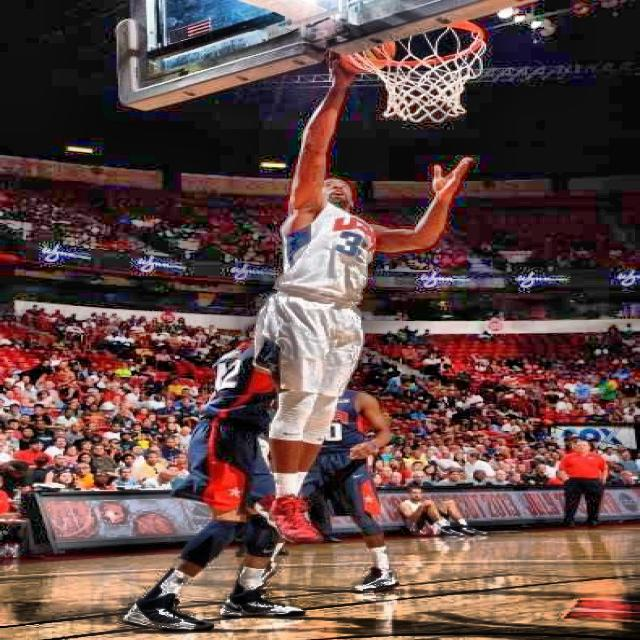rim: (343, 21, 488, 123)
